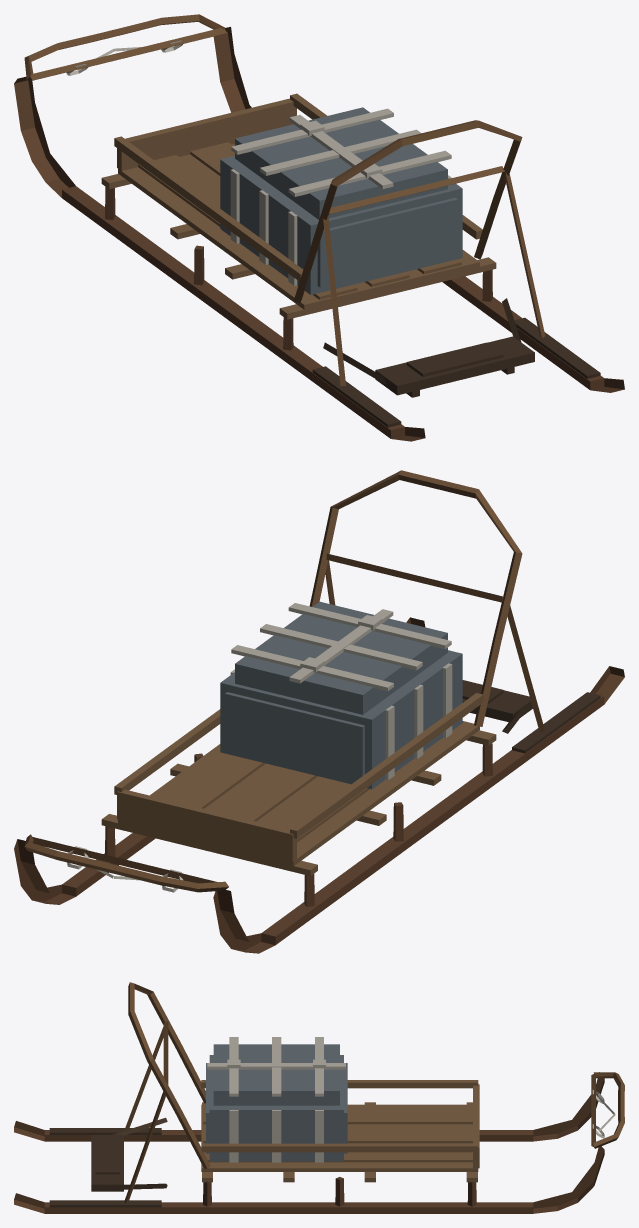
The model's file is bobsled.glb.
3 renders of one model, top to bottom at view 1: azimuth 30°, elevation 25°; view 2: azimuth 150°, elevation 25°; view 3: azimuth 270°, elevation 25°, orthographic. The views are drawn at different scales.
Visible parts, largest first — view 1: 096_dog_sled; view 2: 096_dog_sled; view 3: 096_dog_sled.
Part boxes in pixels (left/top/right/bottom): 096_dog_sled: left=14, top=14, right=624, bottom=441; 096_dog_sled: left=14, top=470, right=624, bottom=953; 096_dog_sled: left=14, top=982, right=624, bottom=1213.
Size of the model in its own units: 0.9 by 0.9695 by 3.
